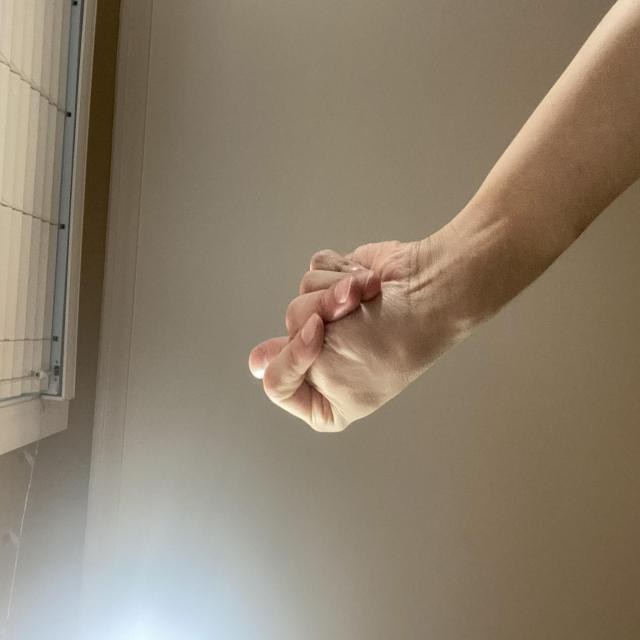T: (148, 324, 314, 586)
